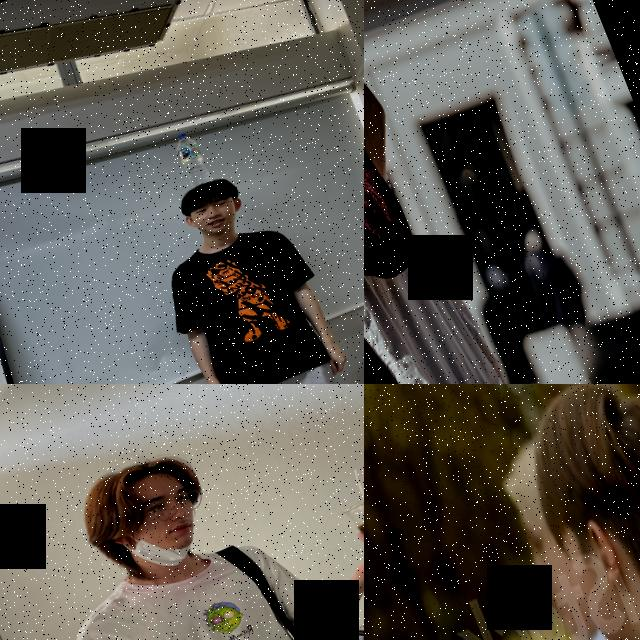bottle: (171, 128, 212, 188)
cup: (340, 484, 364, 560)
